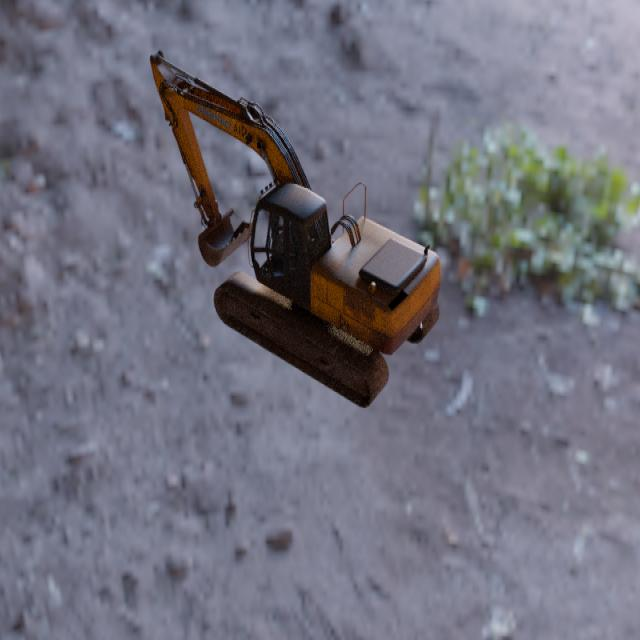excavator: (149, 48, 441, 408)
